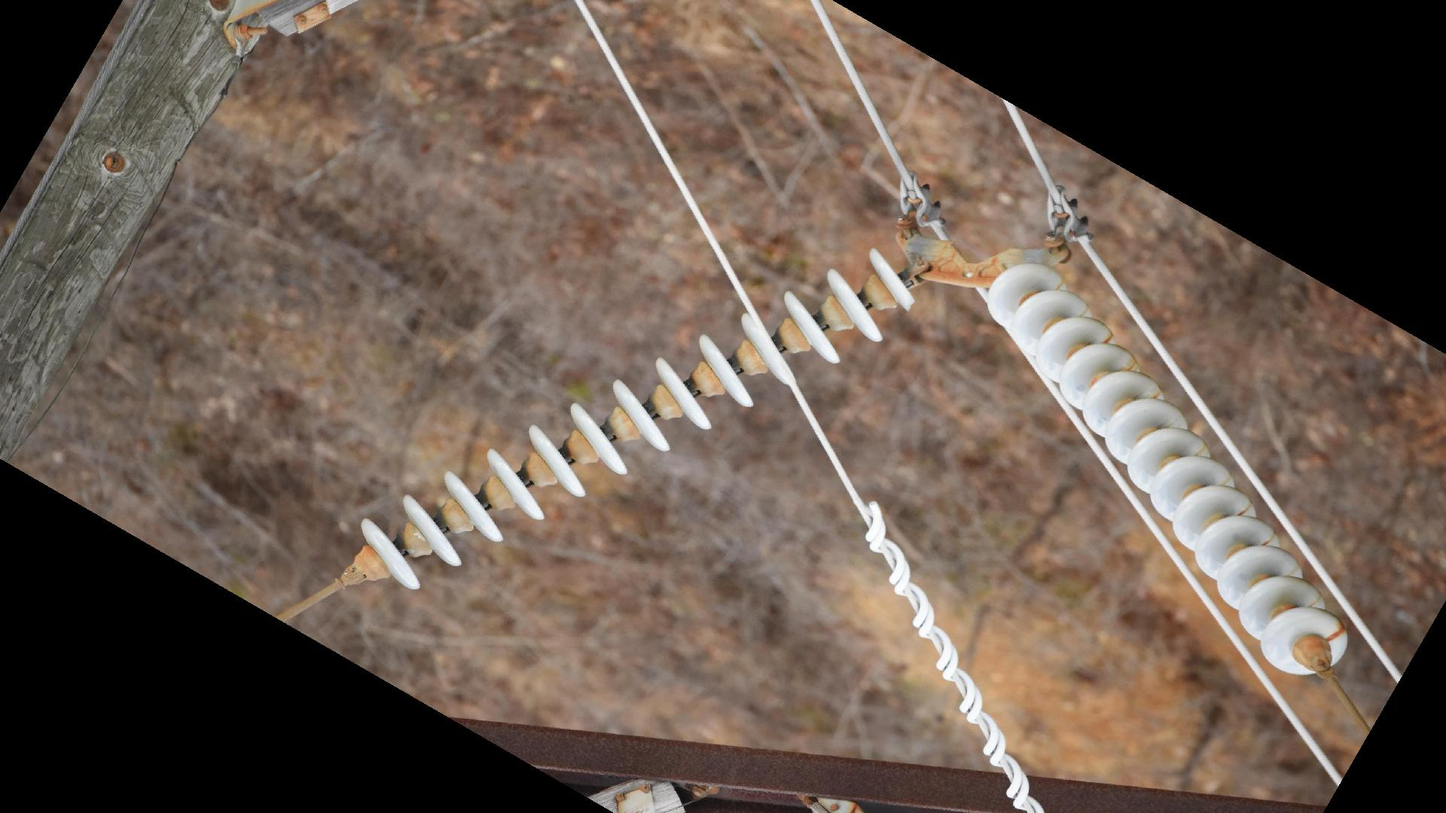insulator: (350, 240, 923, 596), (975, 260, 1353, 683)
insulator_breakage: (888, 290, 926, 319)
